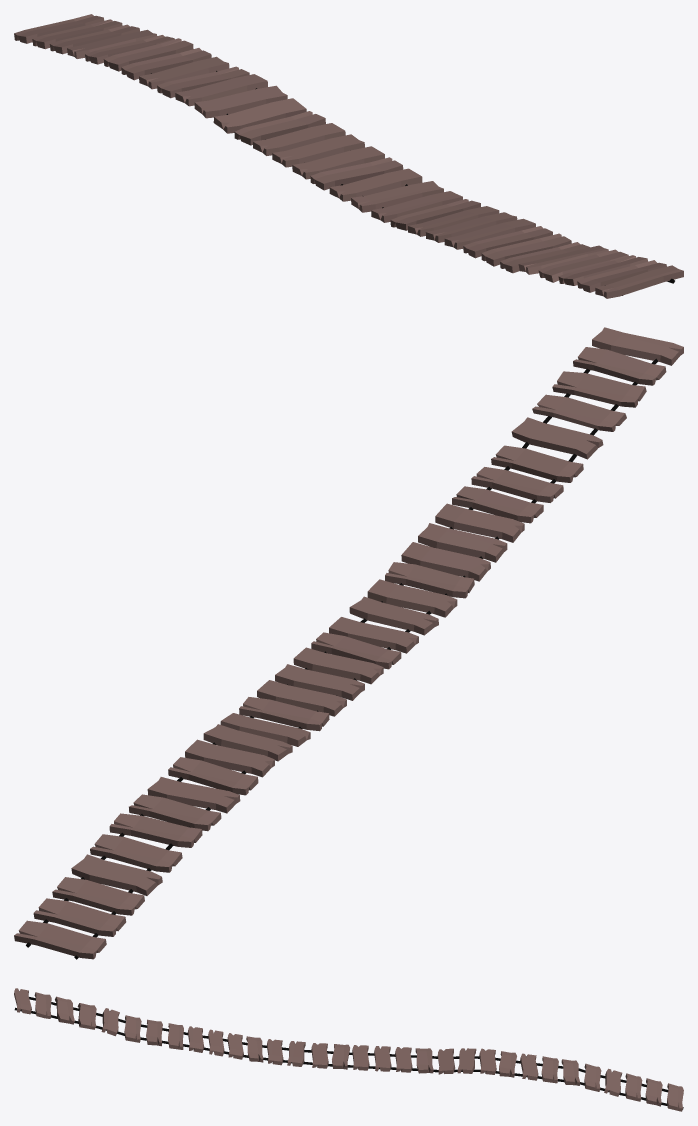
File: Bridge.fbx
3 views of the same model, one above another, from view 1: azimuth 30°, elevation 25°; view 2: azimuth 150°, elevation 25°; view 3: azimuth 270°, elevation 25° (orthographic). The views are drawn at different scales.
Visible parts, largest first — view 1: Bridge.001; view 2: Bridge.001; view 3: Bridge.001.
Boxes of the visible parts, left/top/right/bottom form: Bridge.001: left=14, top=14, right=683, bottom=298; Bridge.001: left=14, top=327, right=683, bottom=959; Bridge.001: left=14, top=988, right=683, bottom=1111.
Bounding box in the file's own units: 793 × 1593 × 9246.
